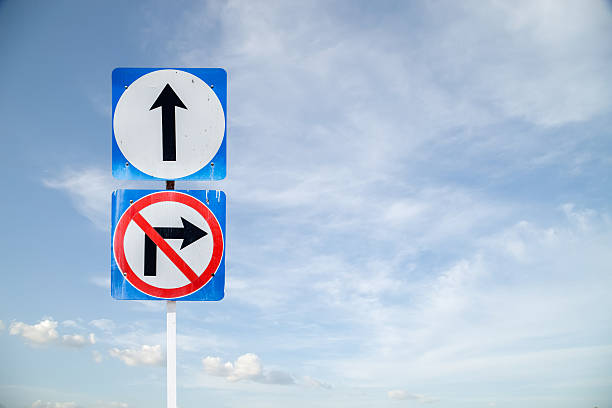saga_donulmez: (106, 187, 224, 307)
